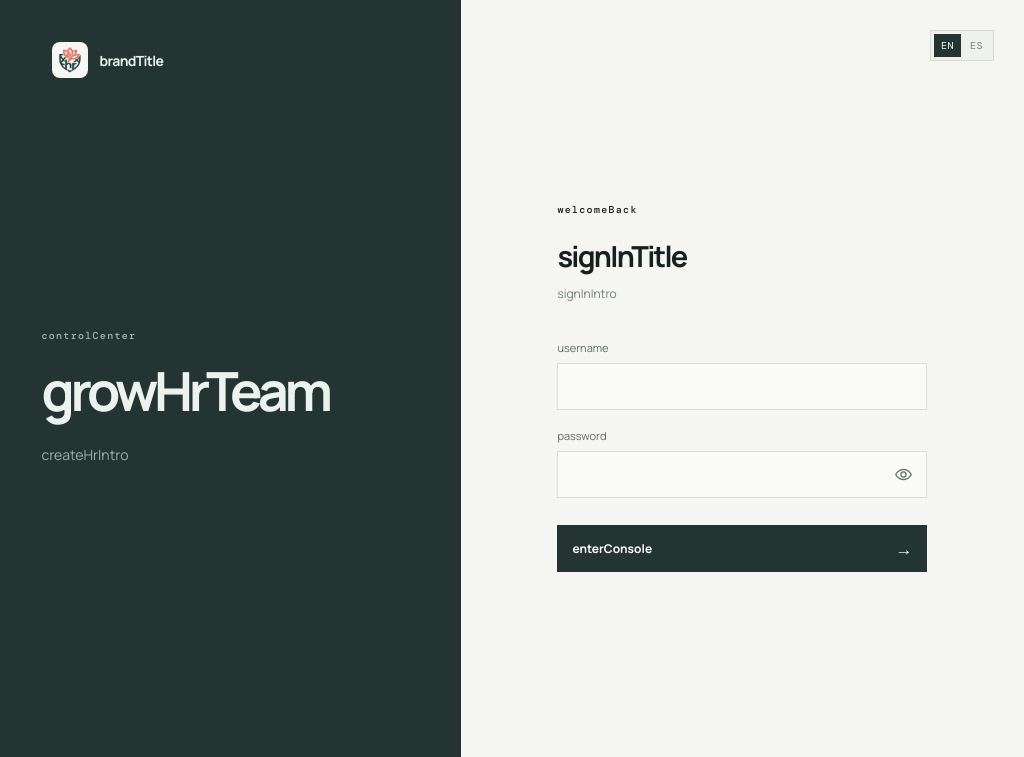
Scenario: [integration] src/app/App.tsx › login persists only after authenticated SYSTEM_ADMIN result
This screenshot has width=1024, height=757.
In the field labelled "username": (742, 386) [557, 363, 927, 410], type "admin"
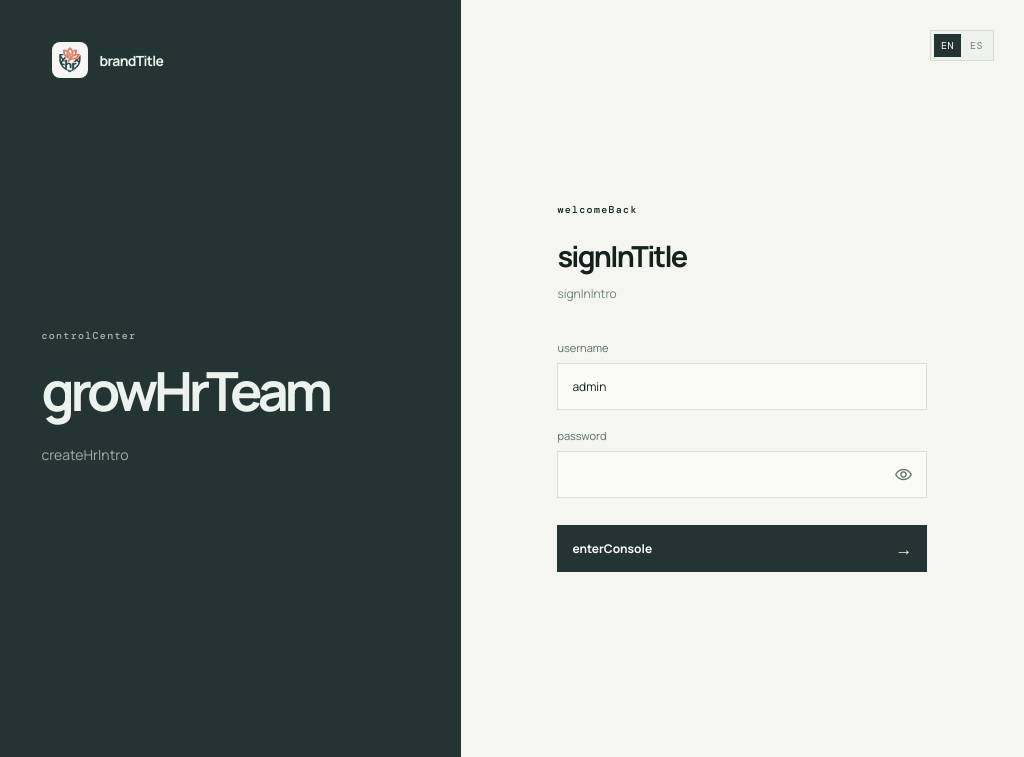
In the password field labelled "password": (742, 474) [557, 451, 927, 498], type "Password123"
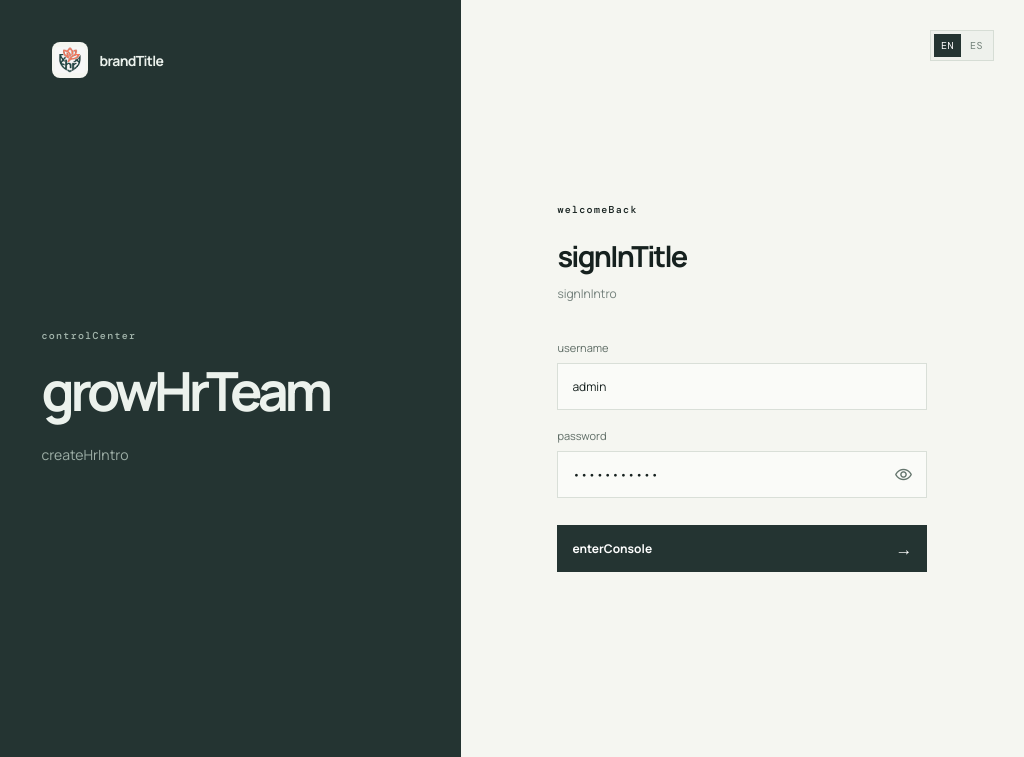
Submit the form, box [557, 196, 927, 572]
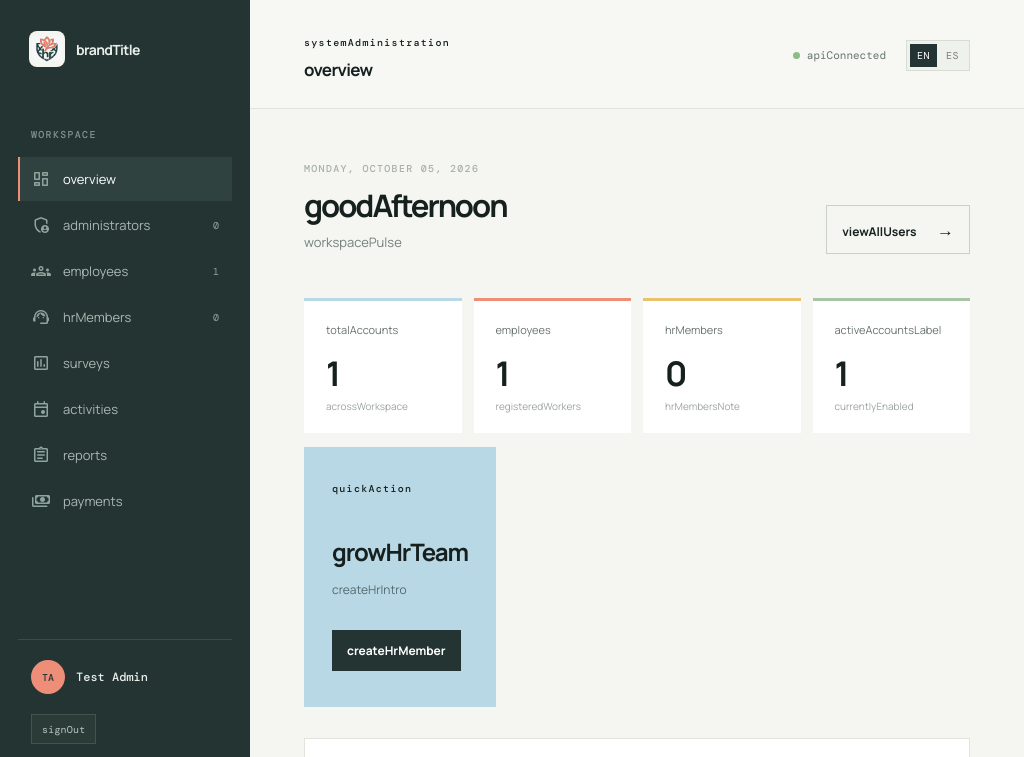
expect the text "apiConnected" is shown: met, box [793, 48, 886, 62]
